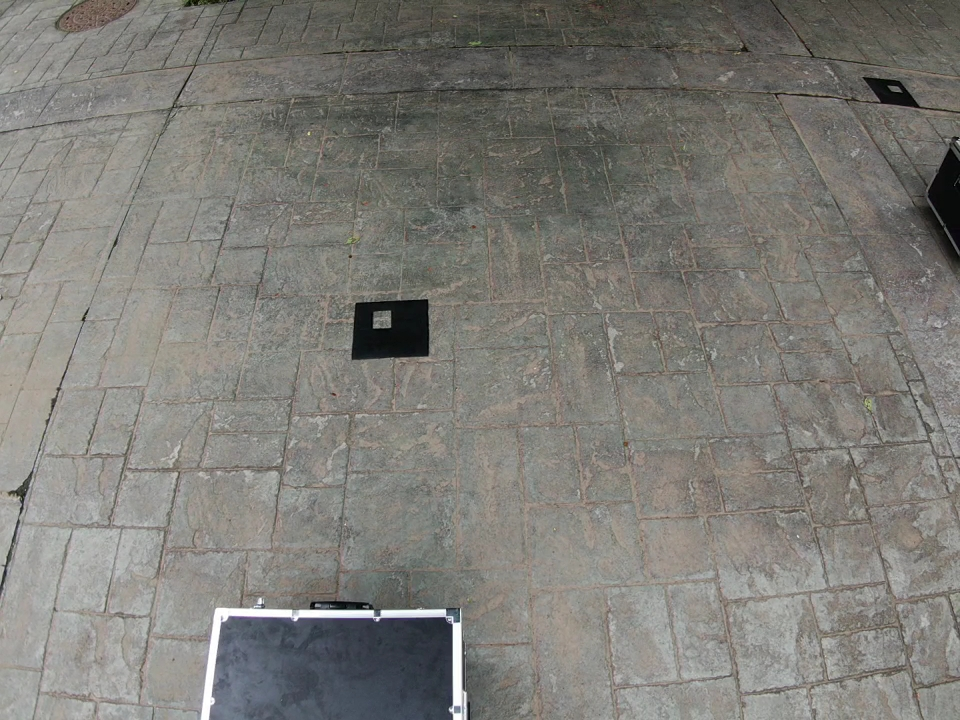box: (201, 608, 468, 720)
qrcode: (351, 300, 429, 358), (862, 77, 920, 107)
